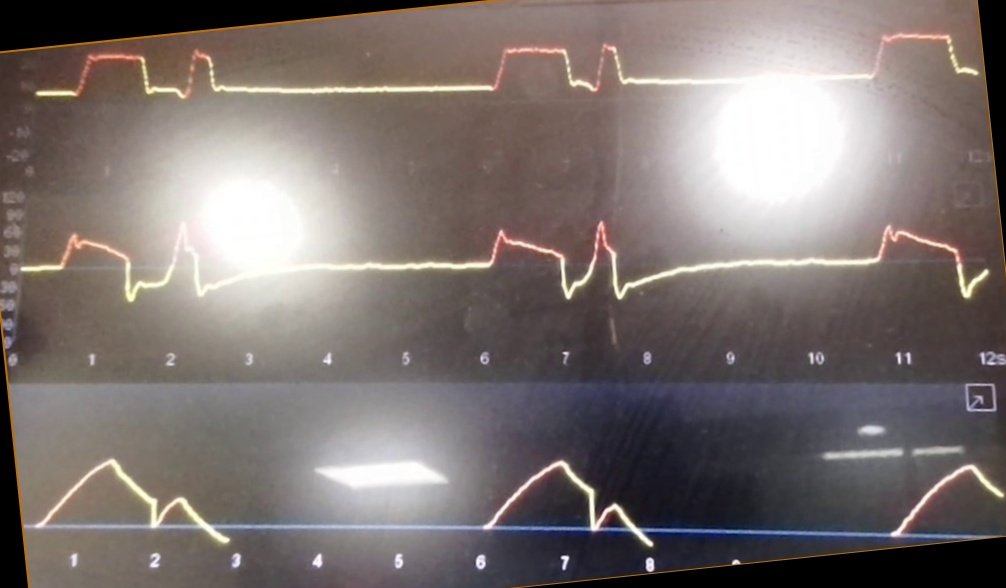Double_Triggering Flow: (26, 184, 994, 337)
Double_Triggering Volume: (35, 445, 998, 547)
